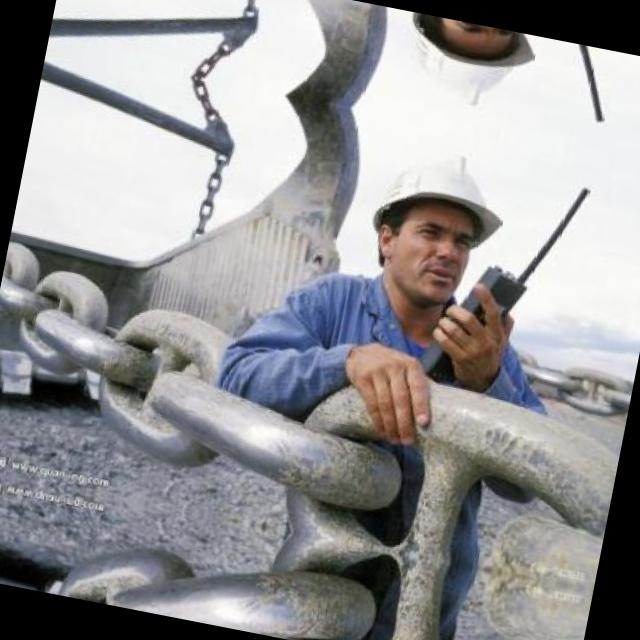helmet: (340, 132, 520, 332), (380, 9, 544, 124)
